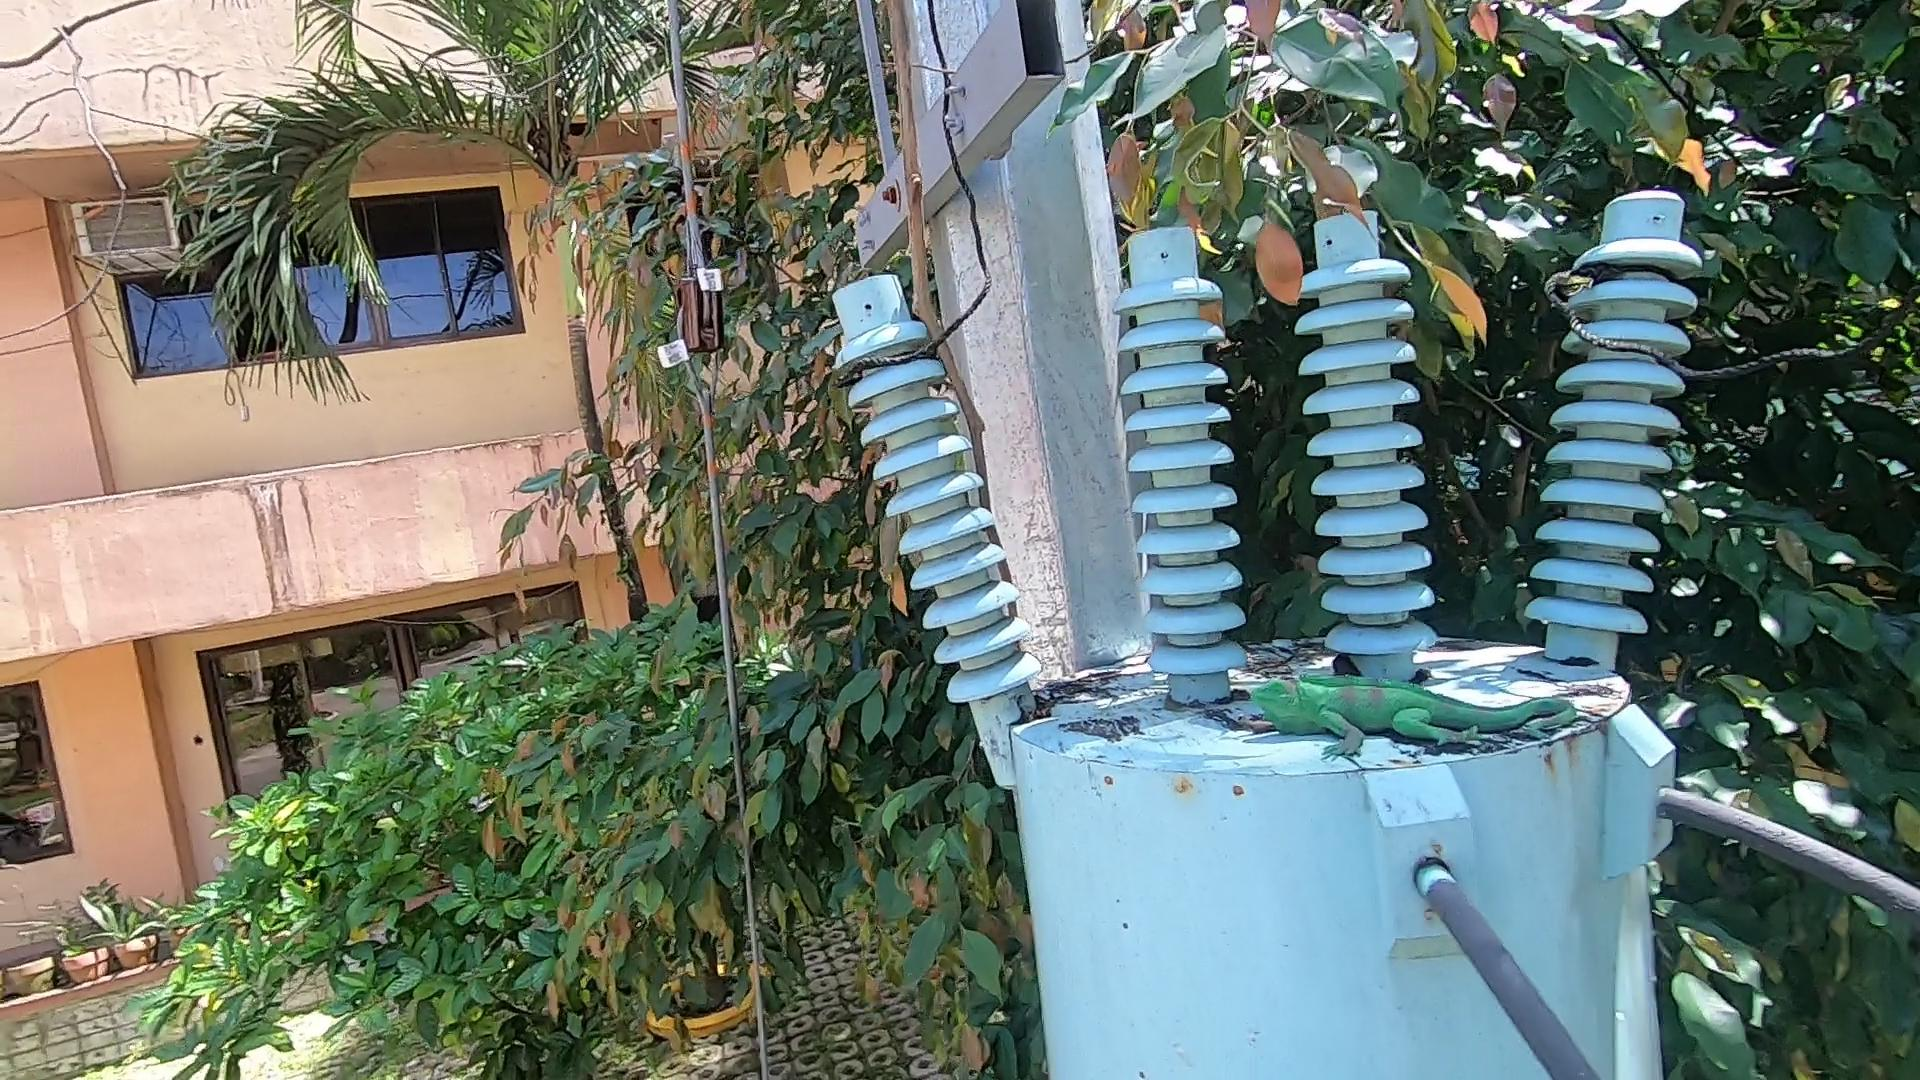branch with leaves: (1211, 127, 1510, 345)
leaf: (1302, 651, 1374, 694), (1006, 694, 1077, 735)
tree branch: (858, 9, 1056, 662)
